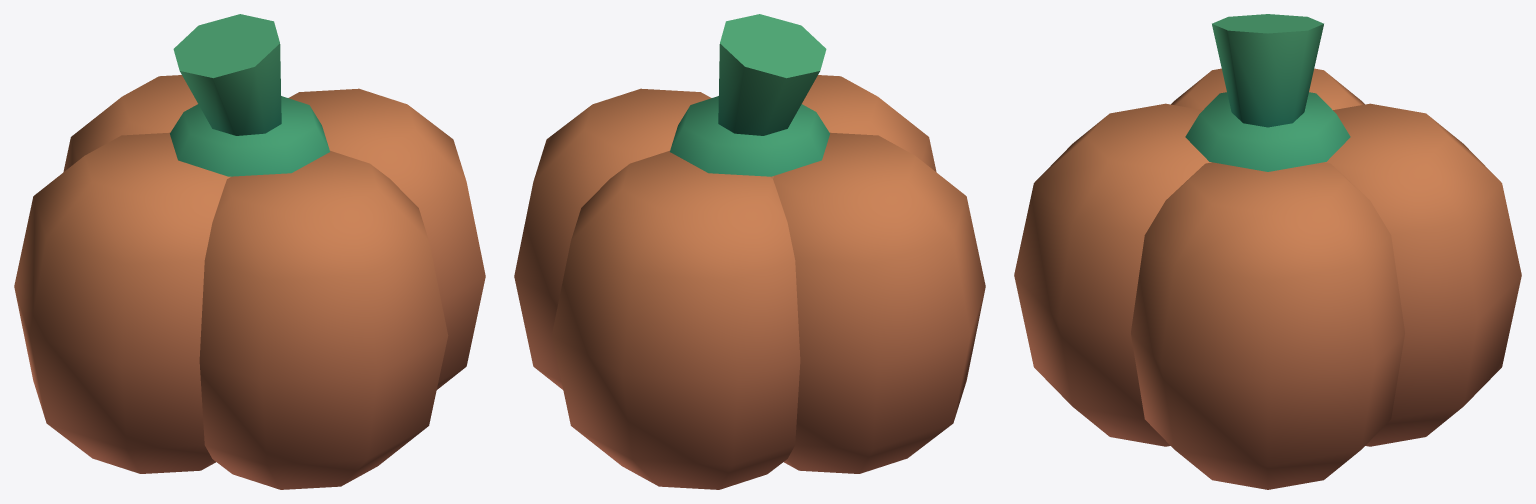
File: pumpkin.glb
3 renders of one model, left to right at view 1: azimuth 30°, elevation 25°; view 2: azimuth 150°, elevation 25°; view 3: azimuth 270°, elevation 25°, orthographic.
Visible parts, largest first — view 1: pumpkin; view 2: pumpkin; view 3: pumpkin.
Boxes of the visible parts, x1=… form: pumpkin: x1=14, y1=14, x2=485, y2=489; pumpkin: x1=514, y1=14, x2=985, y2=489; pumpkin: x1=1014, y1=14, x2=1521, y2=489.
Size of the model in its own units: 0.3775 by 0.3212 by 0.3775.
